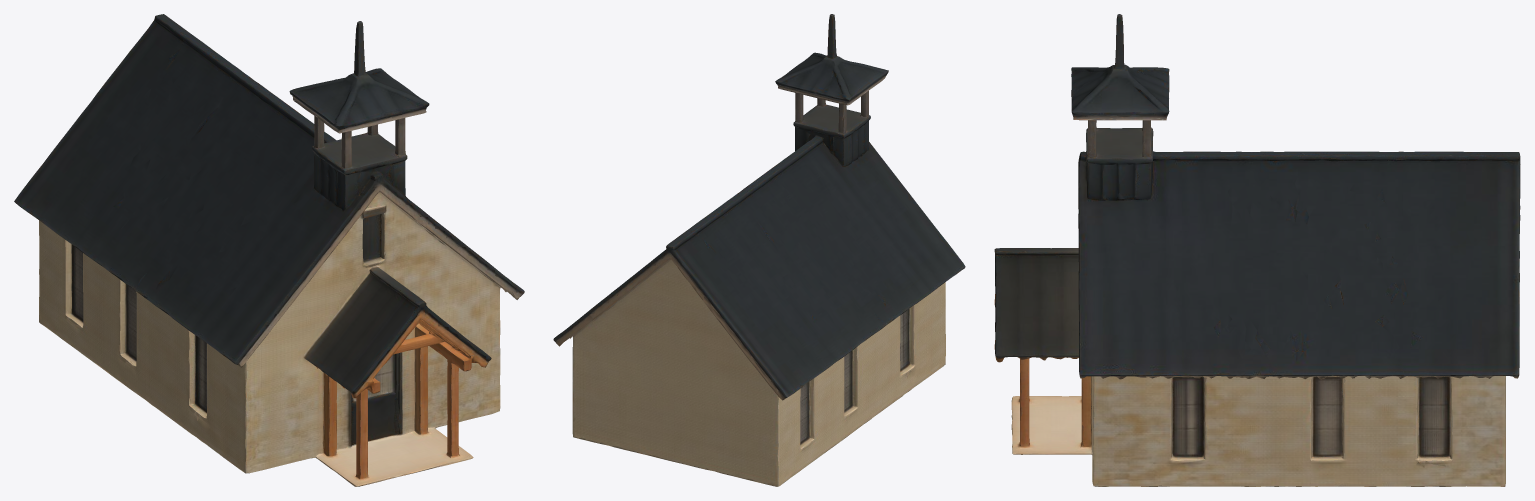
File: campus-chapel.glb
The picture shows the model from 3 angles, left to right: view 1: azimuth 30°, elevation 25°; view 2: azimuth 150°, elevation 25°; view 3: azimuth 270°, elevation 25°; orthographic projection. The views are drawn at different scales.
Visible parts, largest first — view 1: Mesh; view 2: Mesh; view 3: Mesh.
Boxes of the visible parts, x1,y1,x2,y2 form: Mesh: (14,14,524,486); Mesh: (553,14,965,486); Mesh: (994,14,1520,486).
Bounding box in the file's own units: 1.22 × 1.65 × 1.91.
Materials: 1 (1 with a texture image).
